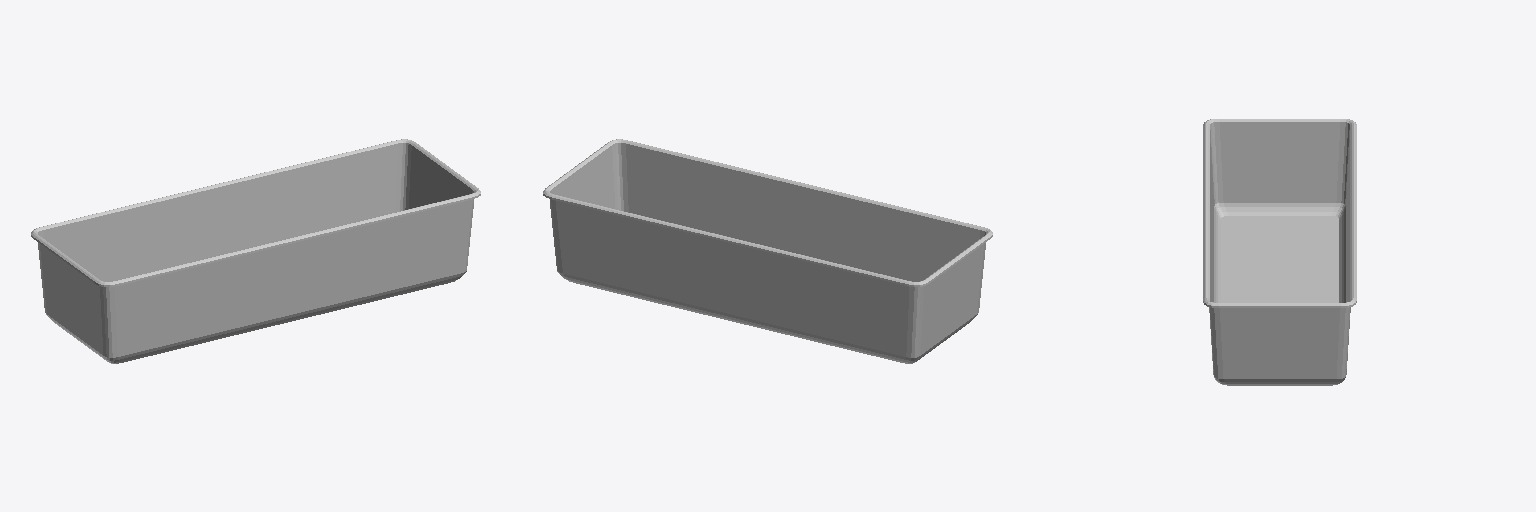
The model's file is Baking Tin.obj.
The picture shows the model from 3 angles: view 1: azimuth 30°, elevation 25°; view 2: azimuth 150°, elevation 25°; view 3: azimuth 270°, elevation 25°; orthographic projection.
Parts seen in each view (by area): view 1: BakingTin; view 2: BakingTin; view 3: BakingTin.
Boxes of the visible parts, x1,y1,x2,y2 form: BakingTin: [31, 139, 480, 363]; BakingTin: [543, 139, 992, 363]; BakingTin: [1203, 119, 1356, 385].
Bounding box in the file's own units: 14.25 × 3.21 × 4.96.